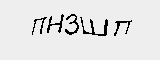З: (66, 13, 78, 35)
Н: (47, 12, 65, 36)
П: (30, 14, 45, 34), (114, 18, 132, 34)
Ш: (80, 15, 108, 37)
